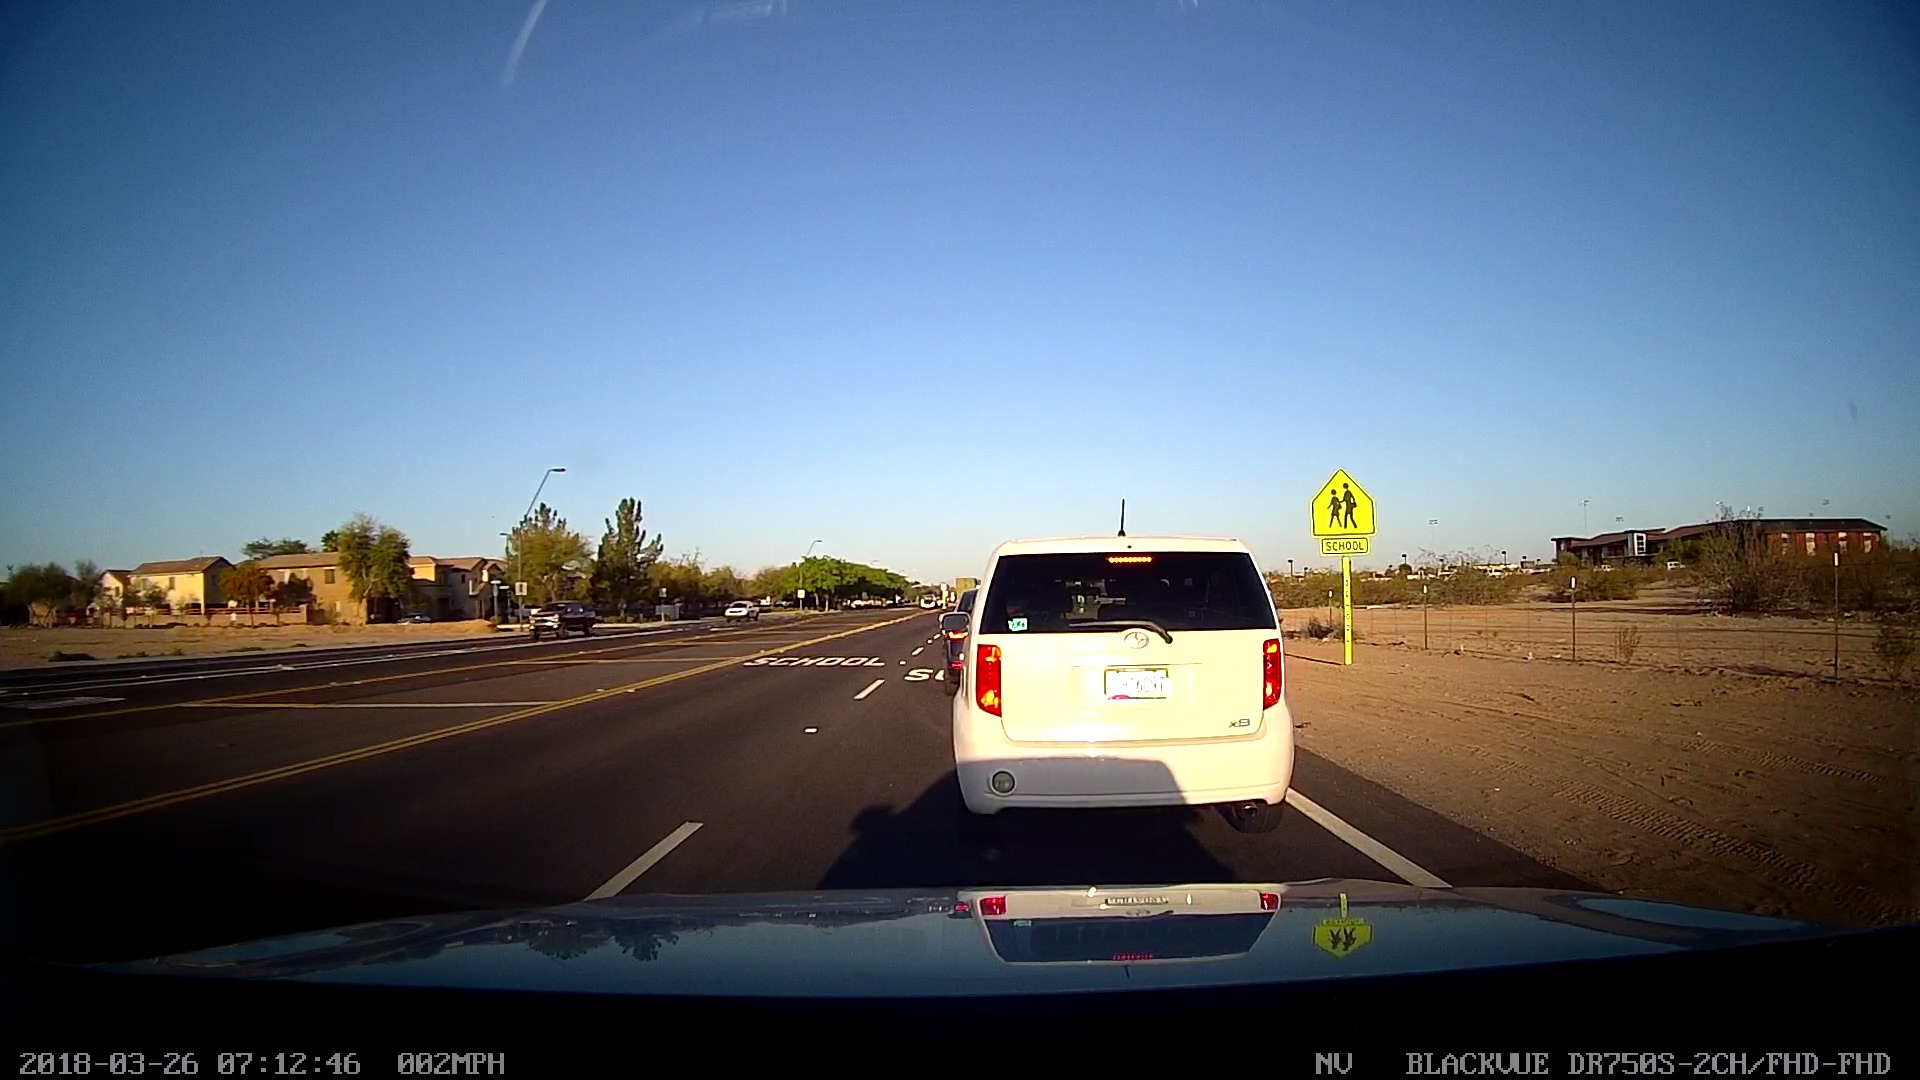plate: (1094, 662, 1175, 706)
vehicle: (952, 528, 1295, 840), (522, 595, 595, 640), (720, 597, 763, 627)
